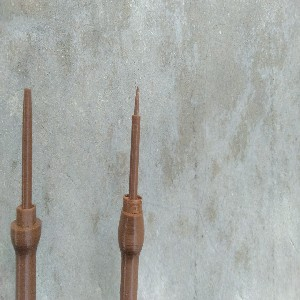obeng: (10, 87, 43, 300)
solder: (116, 85, 145, 300)
